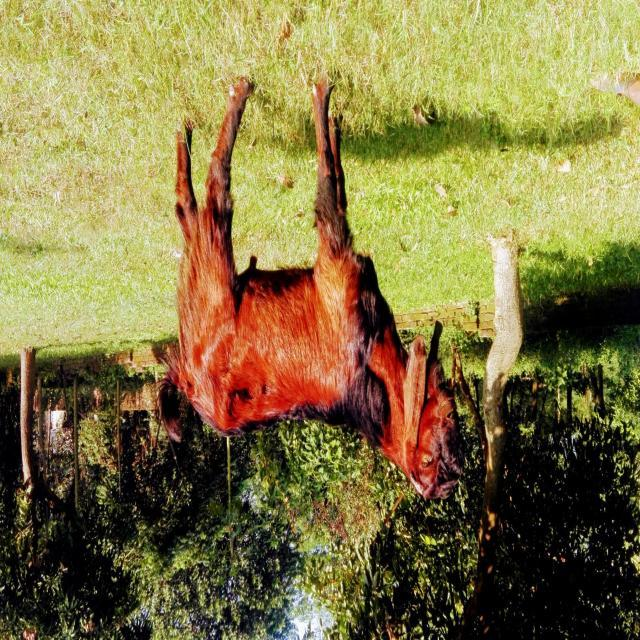Goat: (152, 74, 464, 502)
